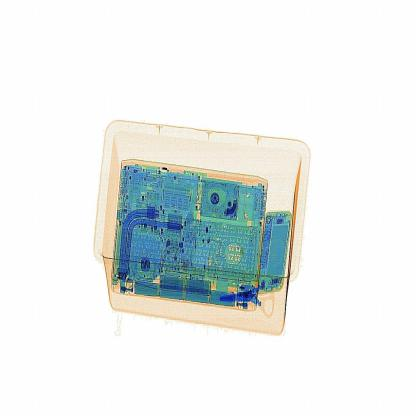gun: (219, 274, 283, 323)
